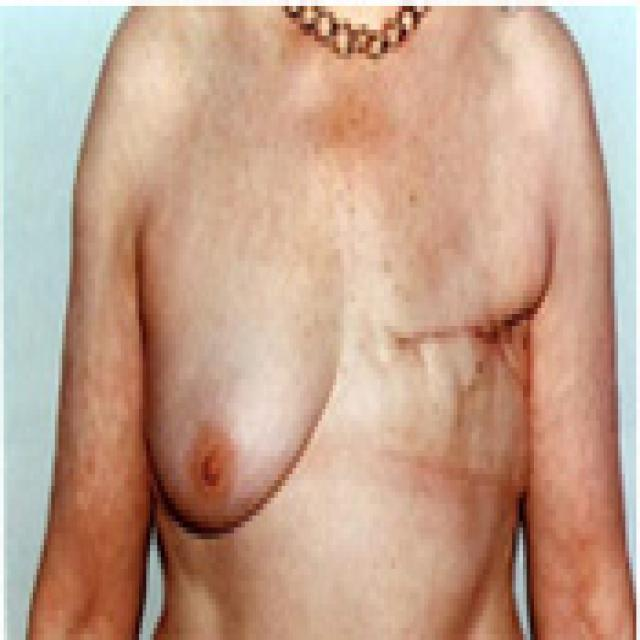Seno herido: (350, 198, 557, 451)
Seno ileso: (136, 199, 344, 565)
